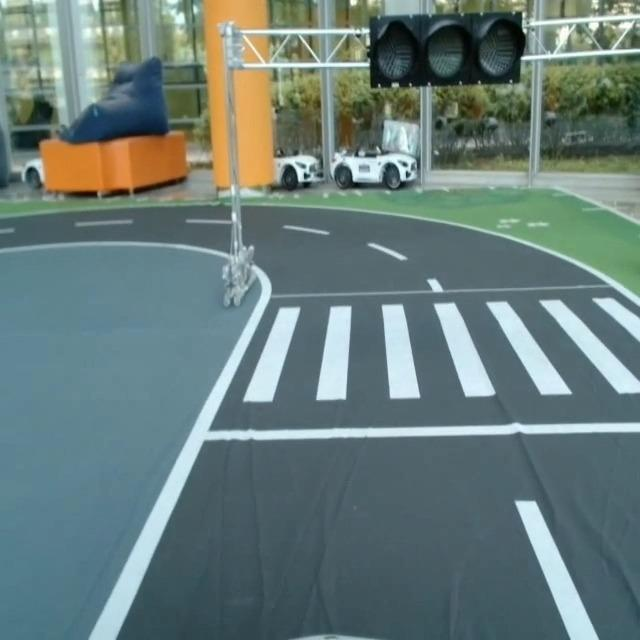traffic-light: (368, 8, 531, 90)
